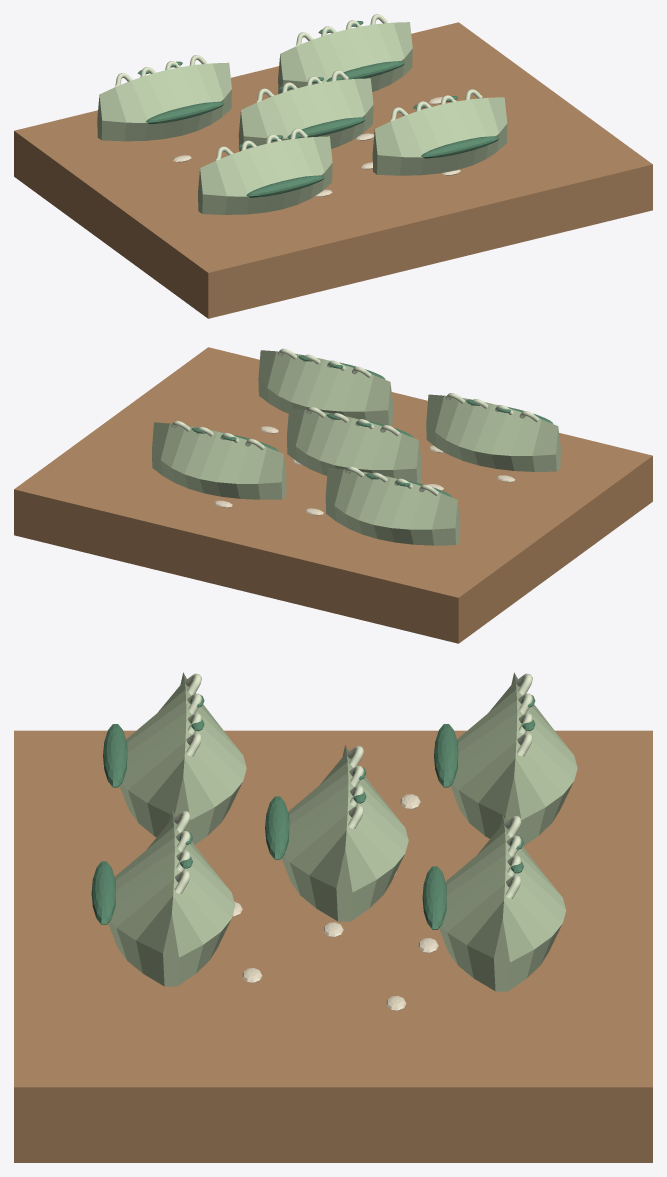
File: portioned_seaweed_dumpling.glb
The picture shows the model from 3 angles, top to bottom: view 1: azimuth 30°, elevation 25°; view 2: azimuth 150°, elevation 25°; view 3: azimuth 270°, elevation 25°; orthographic projection. The views are drawn at different scales.
Parts seen in each view (by area): view 1: portable_dumpling_board, unsteamed_crescent_wrapper_1, unsteamed_crescent_wrapper_0, unsteamed_crescent_wrapper_3, unsteamed_crescent_wrapper_2, unsteamed_crescent_wrapper_4, seaweed_filling_seam_1, seaweed_filling_seam_0, seaweed_filling_seam_3, seaweed_filling_seam_2, seaweed_filling_seam_4; view 2: portable_dumpling_board, unsteamed_crescent_wrapper_3, unsteamed_crescent_wrapper_0, unsteamed_crescent_wrapper_4, unsteamed_crescent_wrapper_2, unsteamed_crescent_wrapper_1; view 3: portable_dumpling_board, unsteamed_crescent_wrapper_4, unsteamed_crescent_wrapper_1, unsteamed_crescent_wrapper_2, unsteamed_crescent_wrapper_3, unsteamed_crescent_wrapper_0, seaweed_filling_seam_4, seaweed_filling_seam_2, seaweed_filling_seam_0, seaweed_filling_seam_1, seaweed_filling_seam_3.
Part boxes in pixels (x1=…): portable_dumpling_board: x1=14, y1=22, x2=652, y2=318; unsteamed_crescent_wrapper_1: x1=372, y1=97, x2=507, y2=175; unsteamed_crescent_wrapper_0: x1=198, y1=136, x2=332, y2=214; unsteamed_crescent_wrapper_3: x1=97, y1=62, x2=231, y2=141; unsteamed_crescent_wrapper_2: x1=238, y1=78, x2=373, y2=151; unsteamed_crescent_wrapper_4: x1=278, y1=22, x2=412, y2=94; seaweed_filling_seam_1: x1=421, y1=136, x2=499, y2=158; seaweed_filling_seam_0: x1=246, y1=175, x2=324, y2=197; seaweed_filling_seam_3: x1=145, y1=101, x2=223, y2=123; seaweed_filling_seam_2: x1=287, y1=117, x2=365, y2=138; seaweed_filling_seam_4: x1=326, y1=61, x2=404, y2=81; portable_dumpling_board: x1=14, y1=347, x2=652, y2=643; unsteamed_crescent_wrapper_3: x1=325, y1=468, x2=460, y2=545; unsteamed_crescent_wrapper_0: x1=426, y1=394, x2=560, y2=471; unsteamed_crescent_wrapper_4: x1=152, y1=422, x2=286, y2=499; unsteamed_crescent_wrapper_2: x1=287, y1=408, x2=421, y2=483; unsteamed_crescent_wrapper_1: x1=258, y1=350, x2=392, y2=425; portable_dumpling_board: x1=14, y1=730, x2=652, y2=1162; unsteamed_crescent_wrapper_4: x1=439, y1=814, x2=566, y2=991; unsteamed_crescent_wrapper_1: x1=108, y1=810, x2=235, y2=986; unsteamed_crescent_wrapper_2: x1=281, y1=745, x2=408, y2=921; unsteamed_crescent_wrapper_3: x1=450, y1=672, x2=577, y2=846; unsteamed_crescent_wrapper_0: x1=119, y1=672, x2=246, y2=844; seaweed_filling_seam_4: x1=422, y1=866, x2=446, y2=929; seaweed_filling_seam_2: x1=265, y1=796, x2=289, y2=859; seaweed_filling_seam_0: x1=103, y1=724, x2=127, y2=787; seaweed_filling_seam_1: x1=91, y1=861, x2=115, y2=924; seaweed_filling_seam_3: x1=434, y1=724, x2=458, y2=787.
Bounding box in the file's own units: 0.74 × 0.1812 × 0.56.
